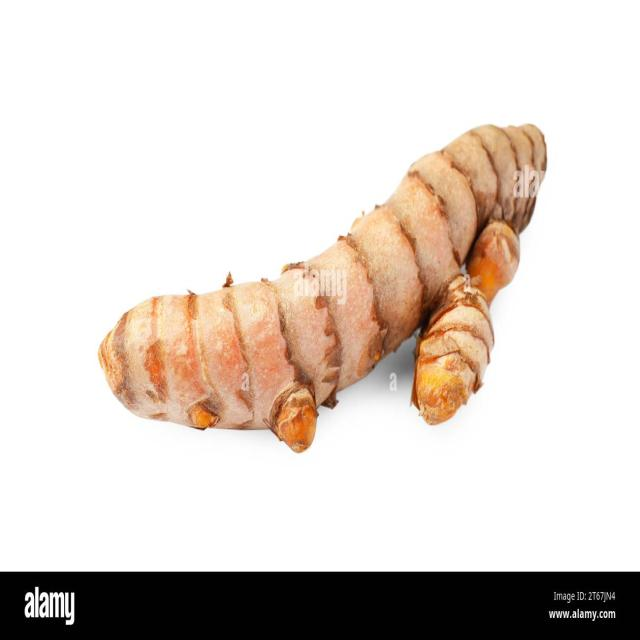turmeric: (83, 84, 584, 486)
